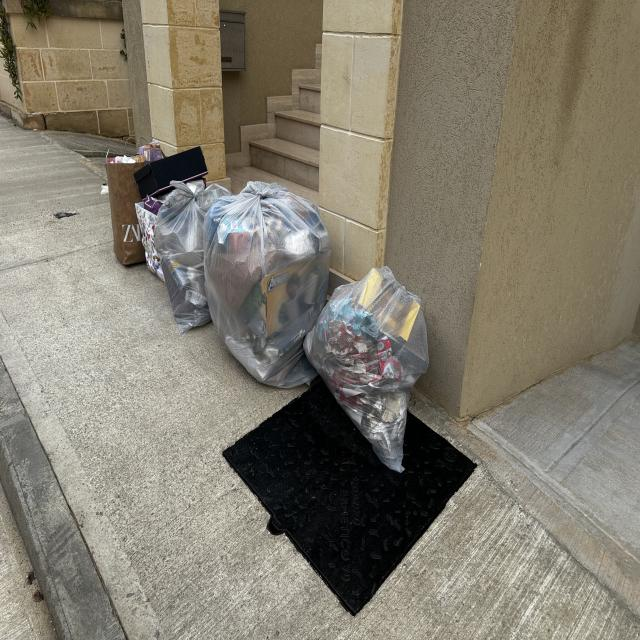Others Waste: (106, 141, 208, 285)
Recyclable Material -Grey Bags-: (153, 180, 429, 473)
